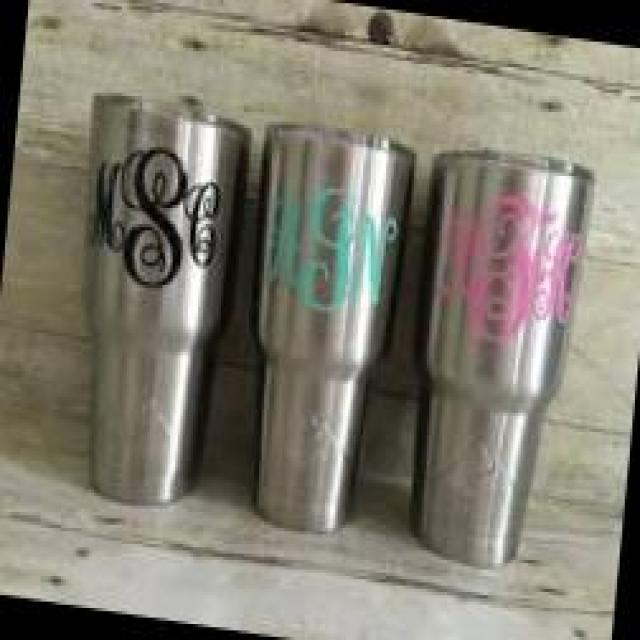bottle: (392, 139, 601, 581), (224, 109, 424, 544), (54, 83, 252, 515)
